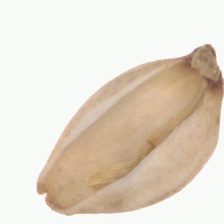L1: (181, 42, 224, 100), (34, 178, 70, 215)
L2: (35, 43, 223, 215)
